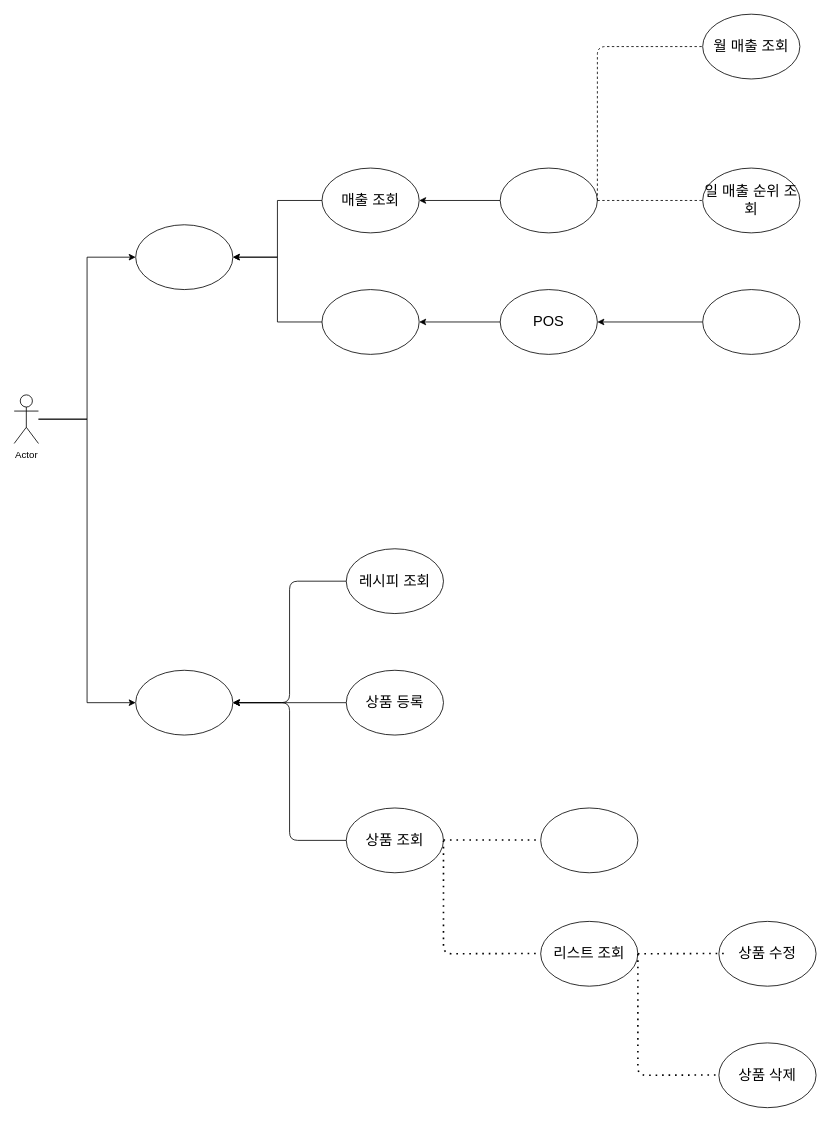
This 830x1122 diagram has some shape labels left out. Here are the shapes that lost their labels. From the top down, the box of each, then its label:
(499, 167, 597, 233): 달 력
(135, 224, 233, 290): 매 출
(321, 289, 419, 354): 매출 등록
(702, 289, 800, 354): 주문 및 결제
(135, 669, 233, 735): 상 품
(540, 807, 638, 873): 이미지 조회
